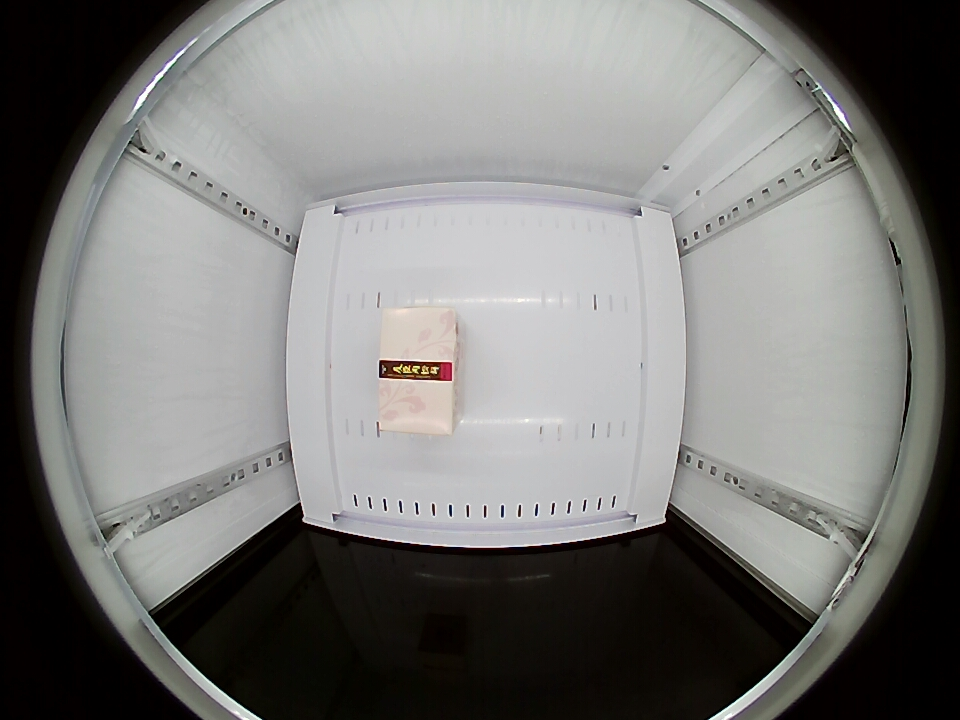rousongbing: (378, 307, 461, 436)
